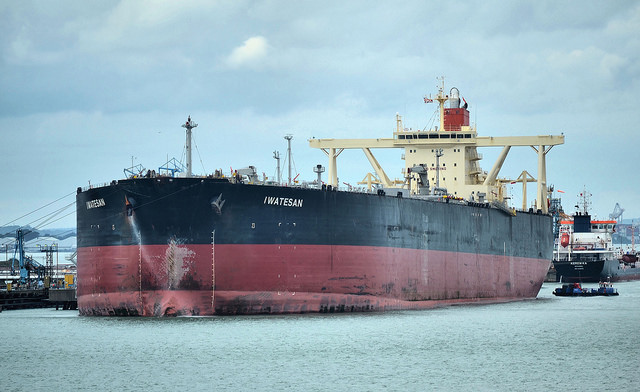boat: (552, 276, 625, 300)
tanker: (75, 74, 557, 312)
